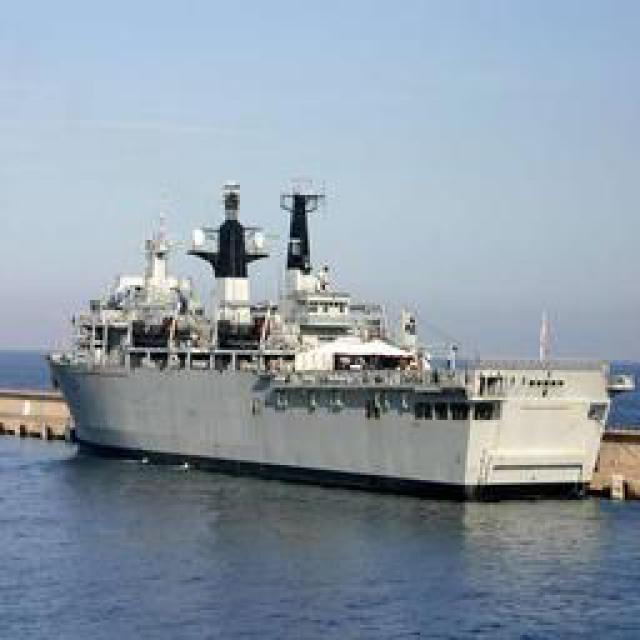Ship: (41, 166, 614, 496)
